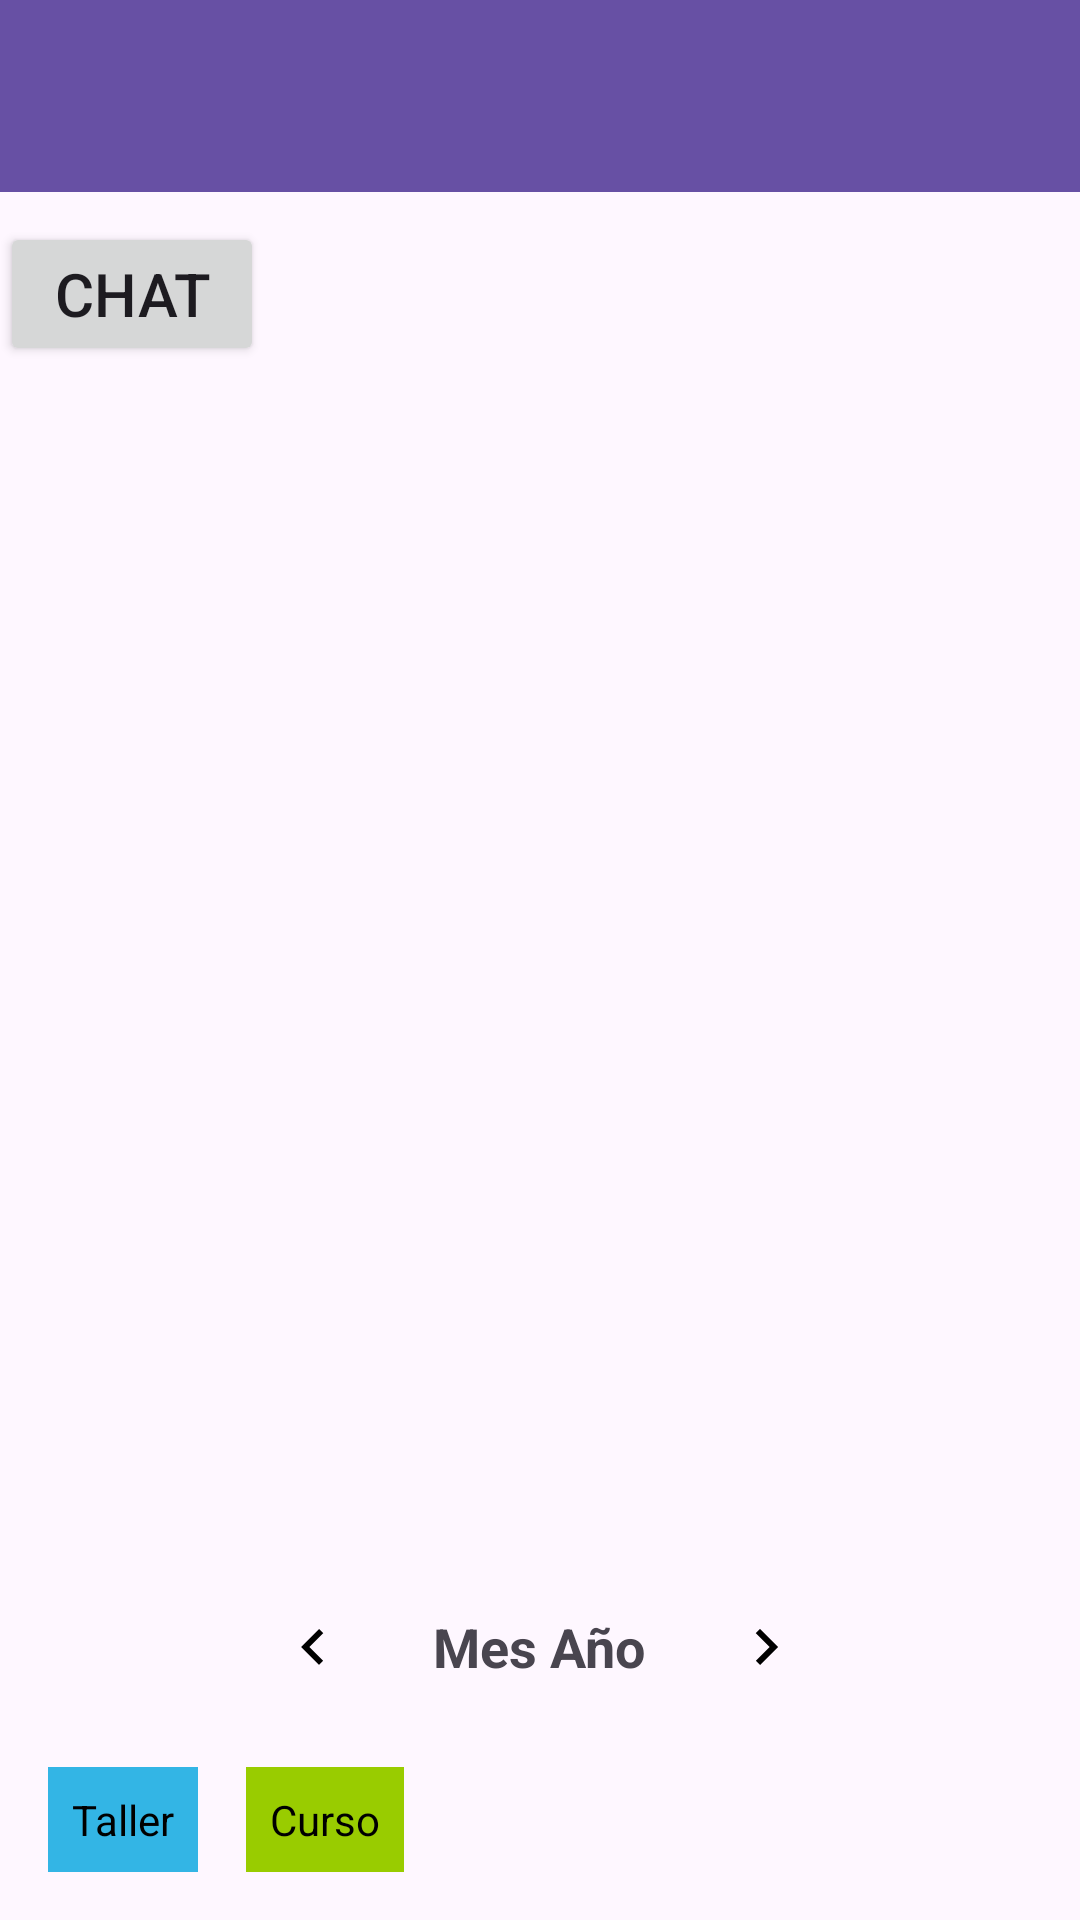

Locate icon controls on the screen. Image size 1080×1920, boxes as (x1, y1, x2, y2).
Mes anterior: (301, 1629, 323, 1665)
Mes siguiente: (756, 1629, 778, 1665)
